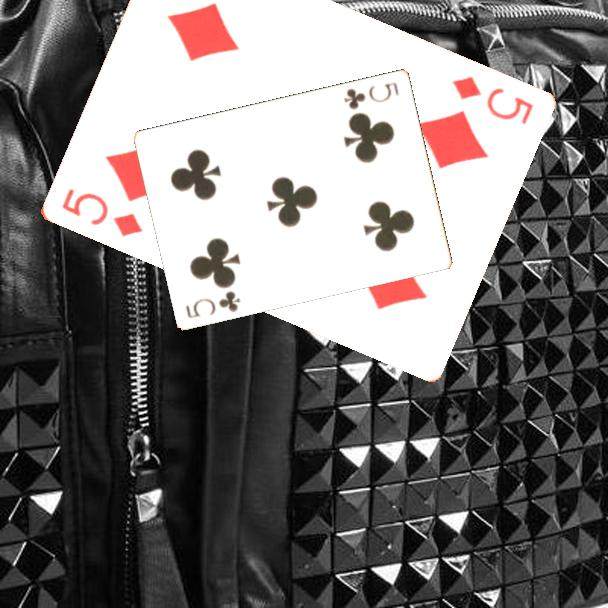c05: (340, 78, 402, 112), (182, 287, 244, 321)
d05: (447, 72, 536, 128), (57, 185, 145, 240)
